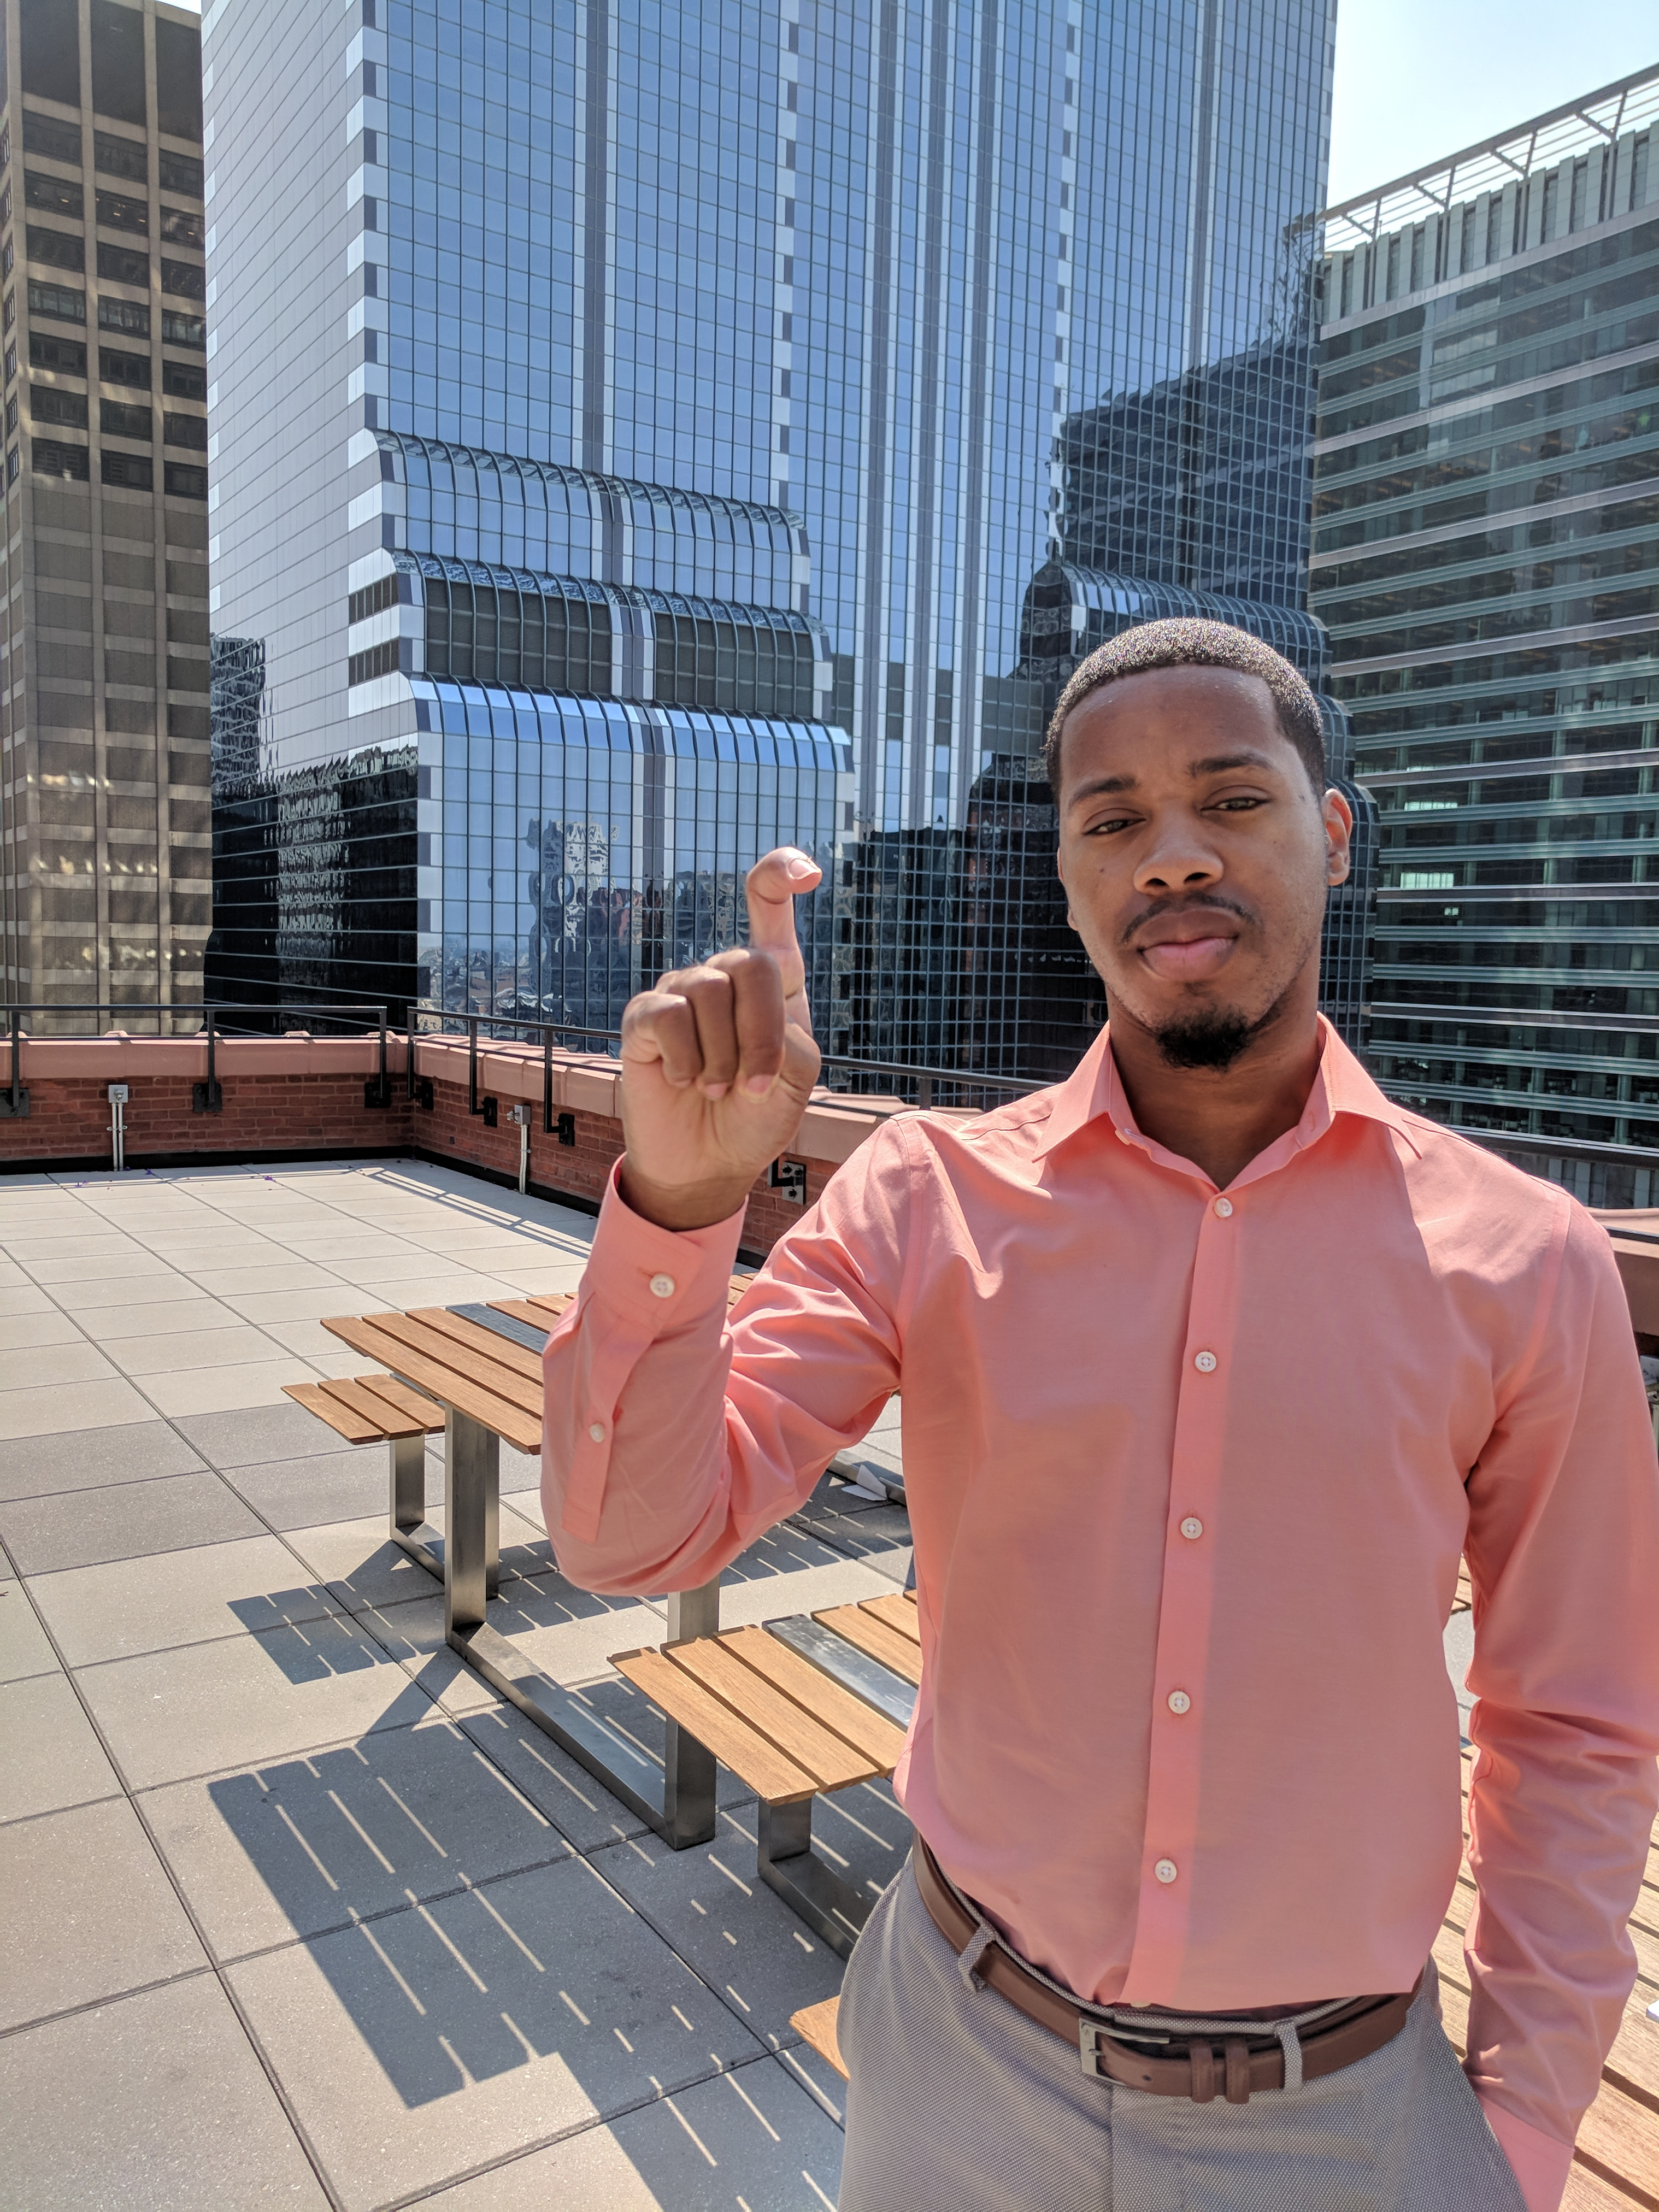x: (610, 841, 831, 1207)
